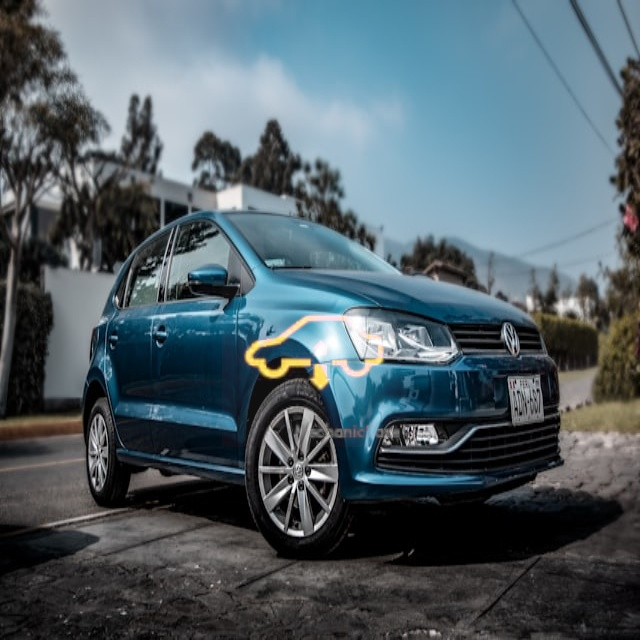symbol: (222, 262, 407, 447)
